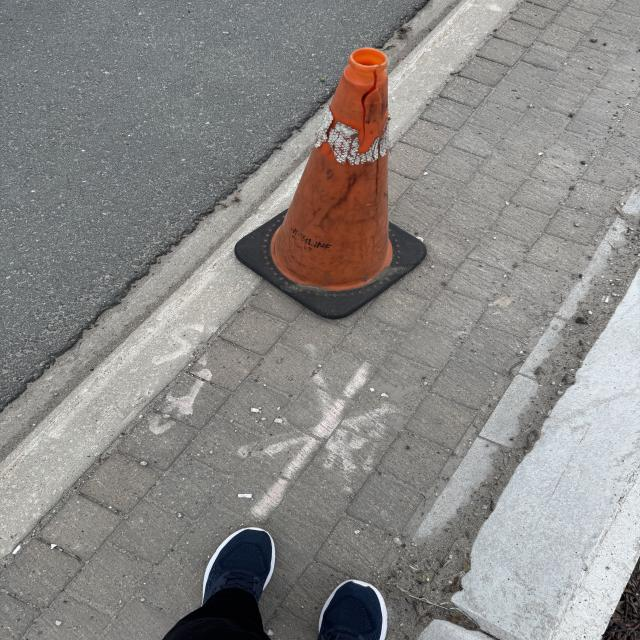Traffic Cone: (236, 49, 434, 321)
